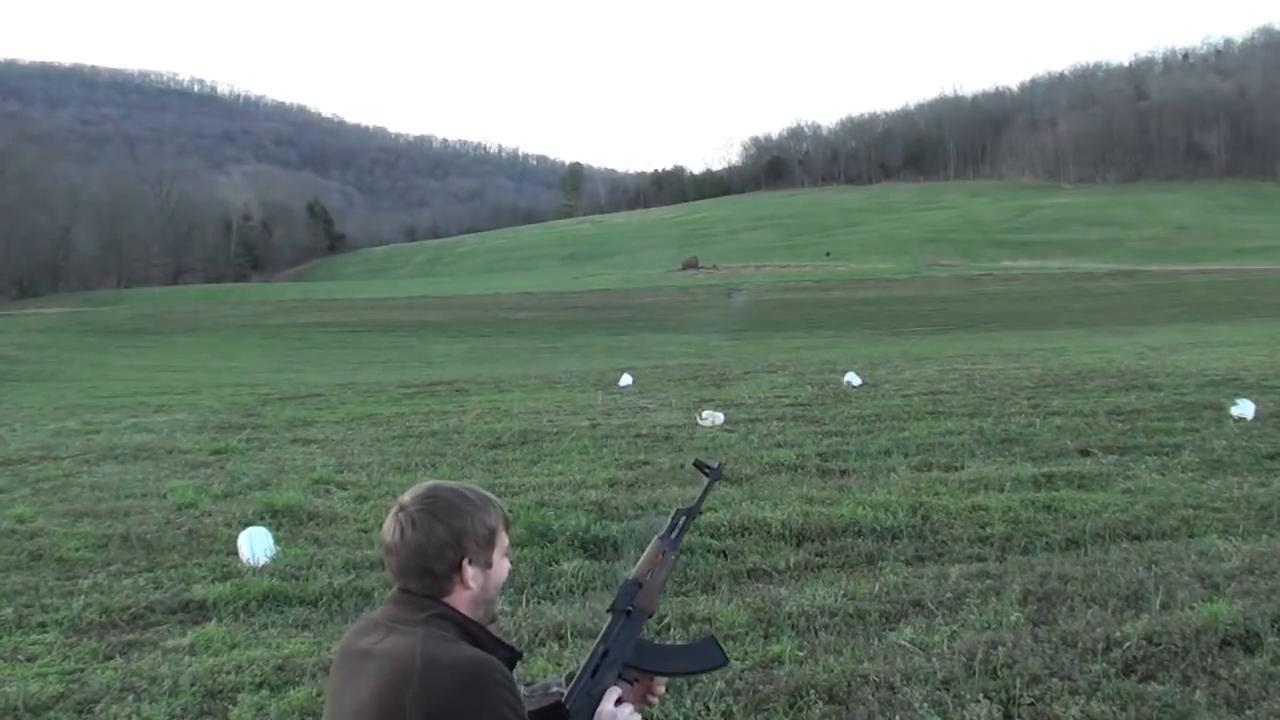AK47 Rifle: (561, 453, 729, 718)
